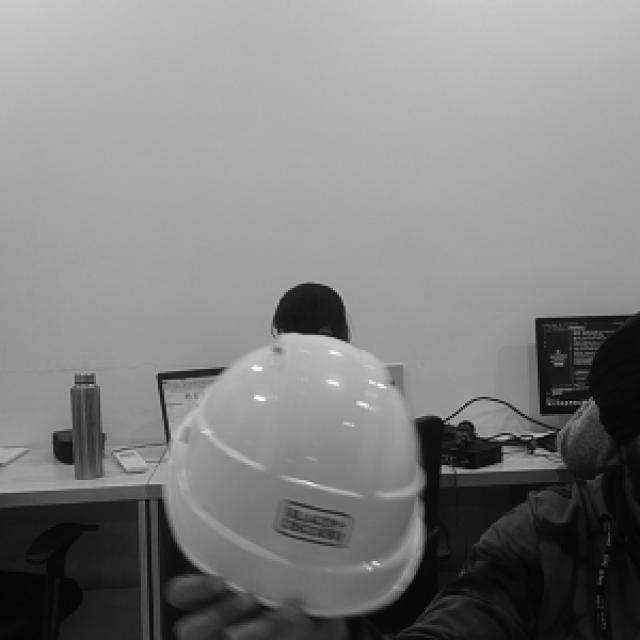safety_helmet: (168, 333, 424, 616)
